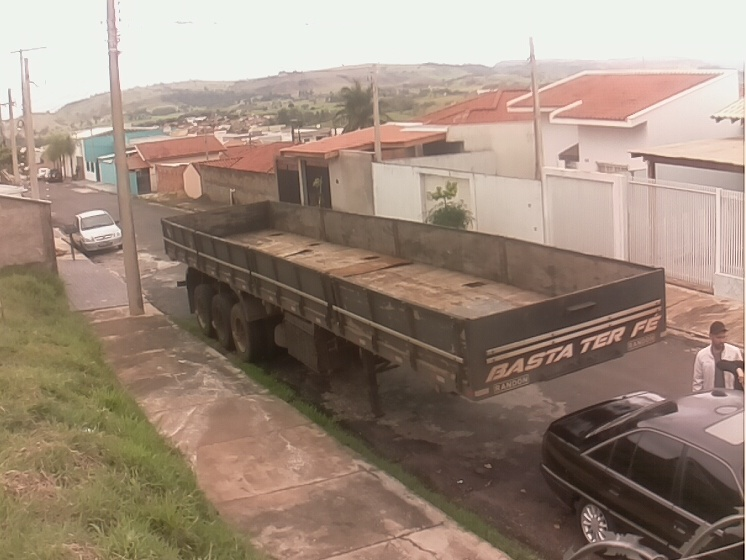person: (691, 319, 745, 396)
